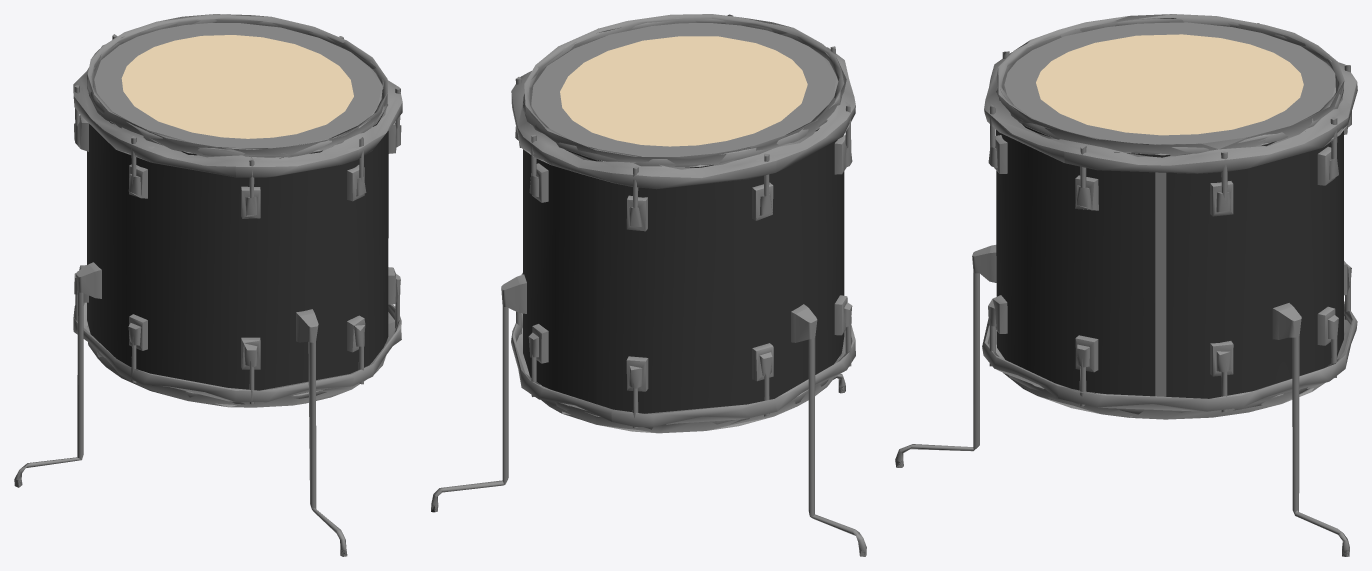
The model's file is SM_DrumKit_V1_floor_tom.FBX.
3 renders of one model, left to right at view 1: azimuth 30°, elevation 25°; view 2: azimuth 150°, elevation 25°; view 3: azimuth 270°, elevation 25°, orthographic. The views are drawn at different scales.
Visible parts, largest first — view 1: SM_DrumKit_V1_floor_tom; view 2: SM_DrumKit_V1_floor_tom; view 3: SM_DrumKit_V1_floor_tom.
Part boxes in pixels (x1,y1,x2,y2): SM_DrumKit_V1_floor_tom: (14,14,402,556); SM_DrumKit_V1_floor_tom: (431,14,866,556); SM_DrumKit_V1_floor_tom: (895,14,1357,556).
Size of the model in its own units: 69.25 by 74.47 by 70.97.
